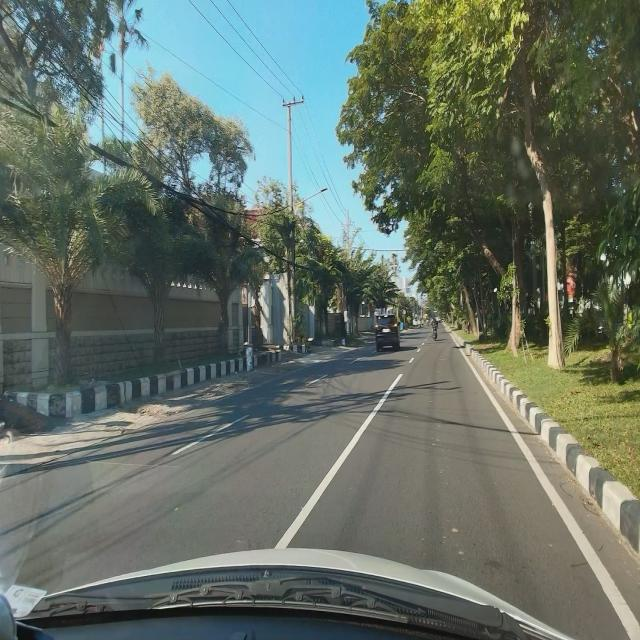car: (374, 311, 400, 354)
license-plate: (382, 328, 390, 333)
